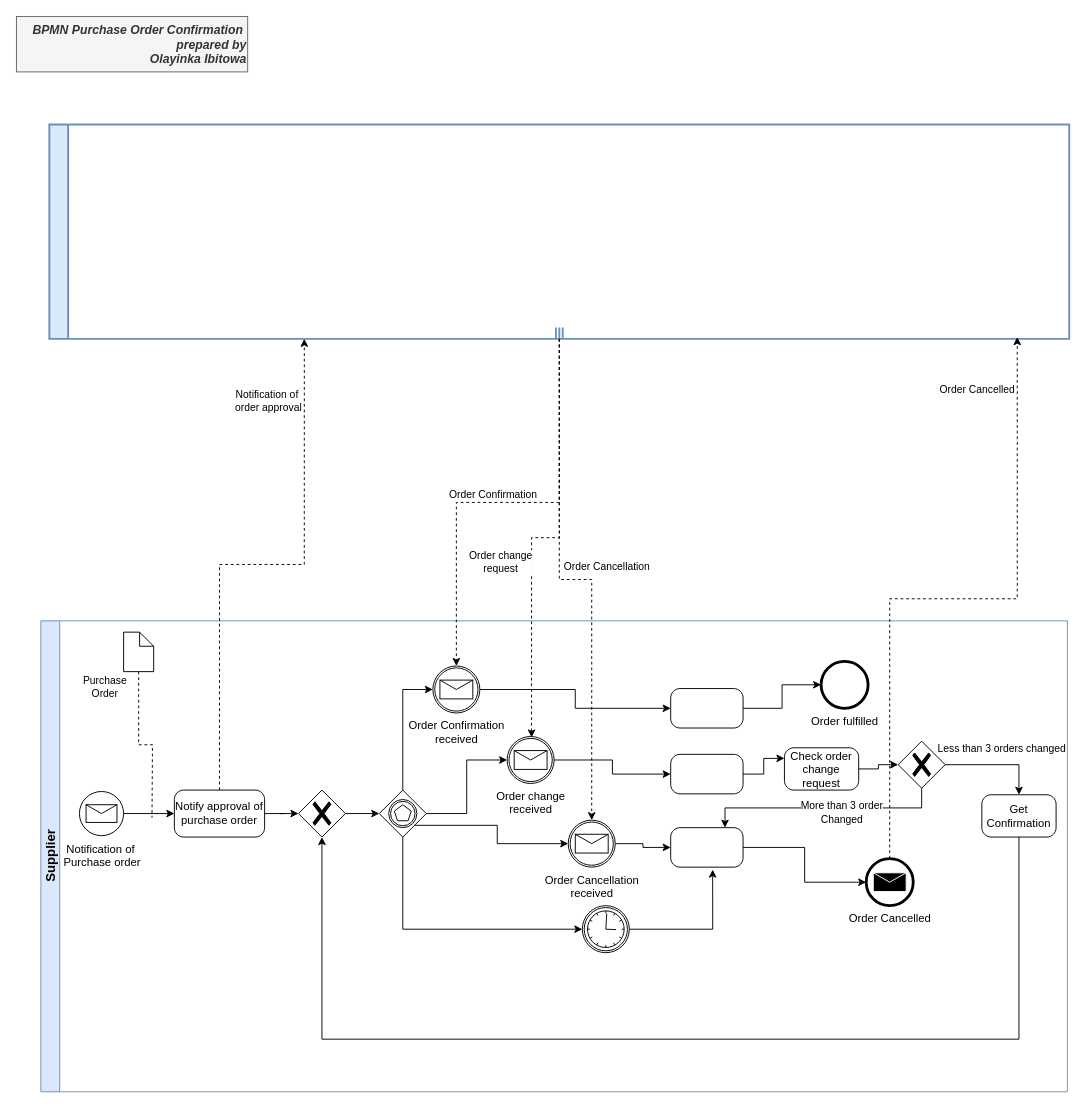
The diagram is 1087 pixels wide and 1108 high, and some of its shapes have lost their labels. Each missing label, with the centre of its shape:
"48 hours waiting" goes at [605,929].
"Cancel Order" goes at [706,847].
"Change Order" goes at [706,773].
"Prepare Order" goes at [706,708].
"Retailer" goes at [559,231].
